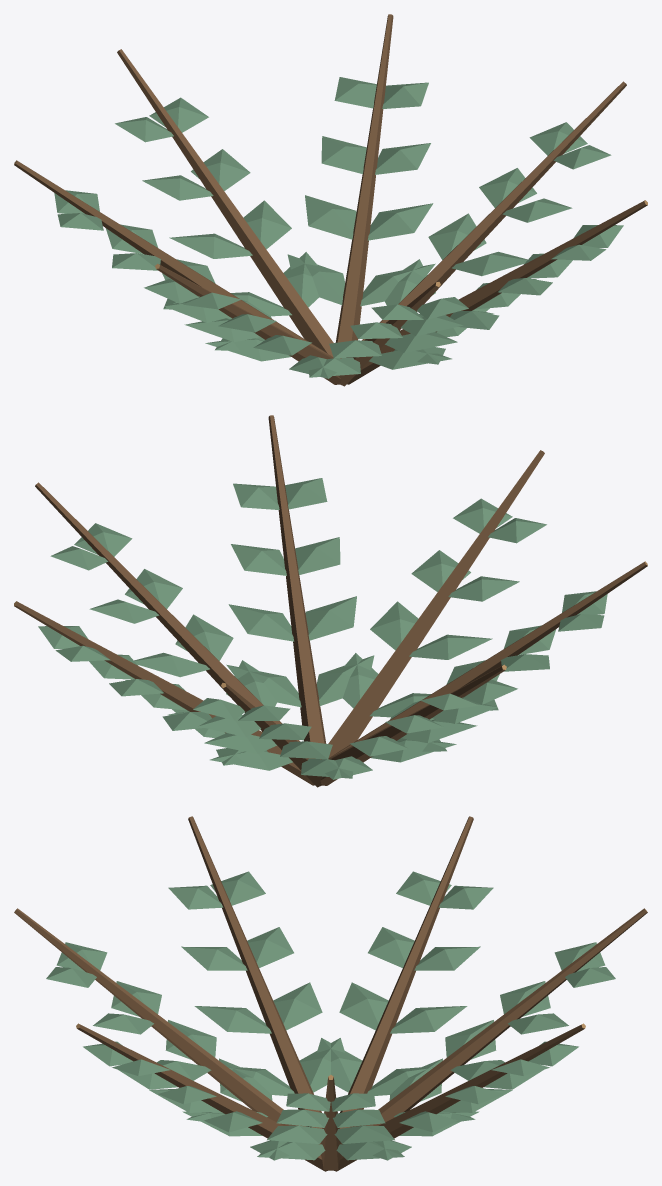
File: berry_shrub.glb
3 views of the same model, one above another, from view 1: azimuth 30°, elevation 25°; view 2: azimuth 150°, elevation 25°; view 3: azimuth 270°, elevation 25° (orthographic).
Parts seen in each view (by area): view 1: berry_shrub; view 2: berry_shrub; view 3: berry_shrub.
Part boxes in pixels (bbox=[...]): berry_shrub: bbox=[14, 14, 647, 386]; berry_shrub: bbox=[14, 415, 647, 787]; berry_shrub: bbox=[14, 816, 647, 1171].
Bounding box in the file's own units: 1.24 × 0.5123 × 1.27.
